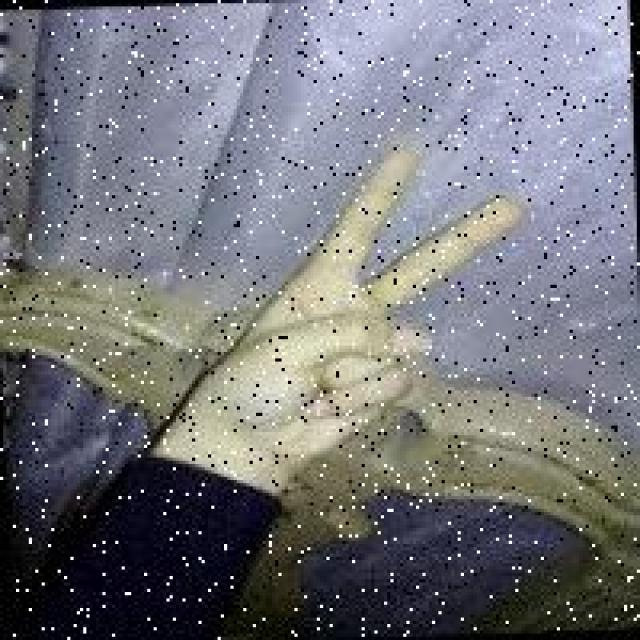V: (216, 141, 542, 464)
